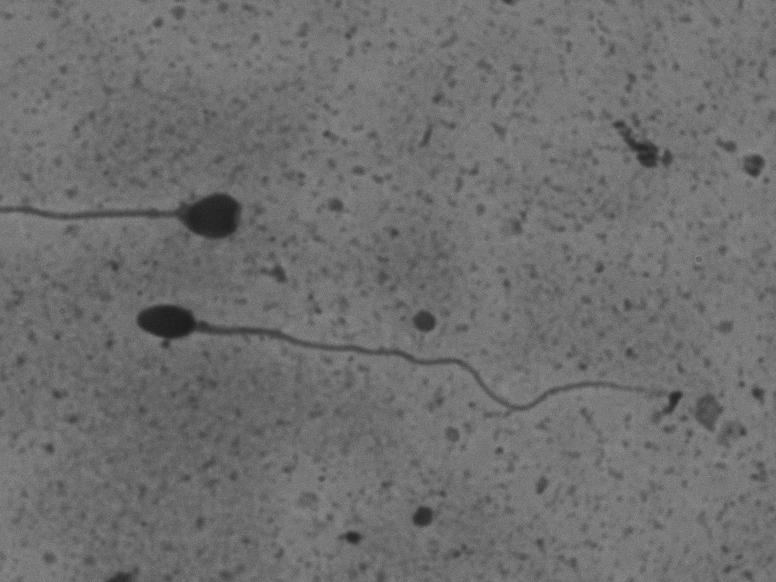Abnormal: (25, 134, 271, 266)
Normal: (109, 291, 677, 442)
